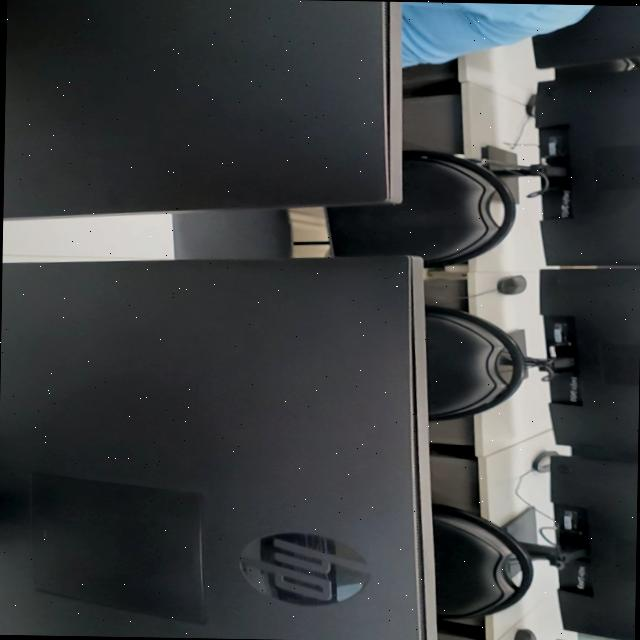Chair: (171, 151, 513, 267), (425, 305, 552, 420), (431, 504, 531, 619), (555, 57, 640, 78), (573, 444, 638, 462)
Monitor: (0, 256, 431, 640), (2, 0, 398, 226), (481, 68, 640, 265), (500, 454, 638, 640), (512, 267, 640, 452), (533, 5, 640, 68)
Mouse: (531, 450, 558, 472), (496, 275, 525, 294), (513, 628, 536, 640), (525, 93, 536, 117)
